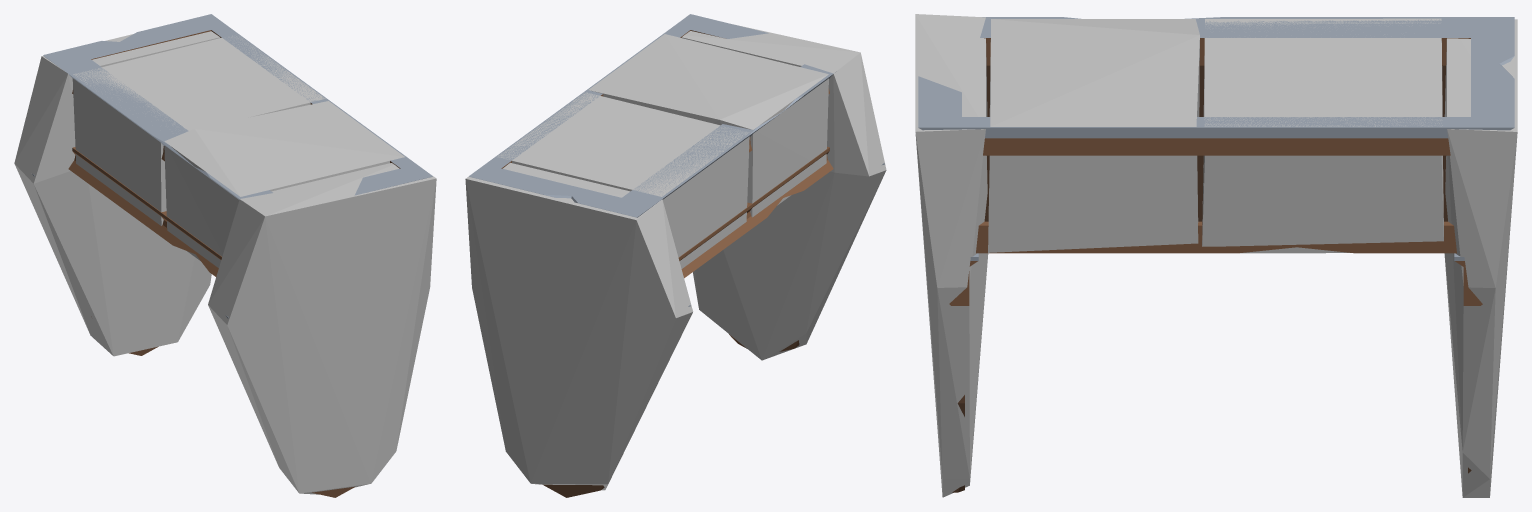
Rendered from SM_Bld_Window_Decoration_01.fbx.
3 renders of one model, left to right at view 1: azimuth 30°, elevation 25°; view 2: azimuth 150°, elevation 25°; view 3: azimuth 270°, elevation 25°, orthographic. The views are drawn at different scales.
Visible parts, largest first — view 1: SM_Bld_Window_Decoration_01_ConvexHulls, SM_Bld_Window_Decoration_01; view 2: SM_Bld_Window_Decoration_01_ConvexHulls, SM_Bld_Window_Decoration_01; view 3: SM_Bld_Window_Decoration_01_ConvexHulls, SM_Bld_Window_Decoration_01.
Part boxes in pixels (x1=…): SM_Bld_Window_Decoration_01_ConvexHulls: x1=14, y1=31, x2=436, y2=494; SM_Bld_Window_Decoration_01: x1=32, y1=14, x2=432, y2=497; SM_Bld_Window_Decoration_01_ConvexHulls: x1=465, y1=15, x2=886, y2=490; SM_Bld_Window_Decoration_01: x1=469, y1=14, x2=884, y2=497; SM_Bld_Window_Decoration_01_ConvexHulls: x1=915, y1=14, x2=1517, y2=497; SM_Bld_Window_Decoration_01: x1=918, y1=17, x2=1514, y2=492.
Bounding box in the file's own units: 93.7 × 176 × 136.
Materials: 2 (1 with a texture image).
